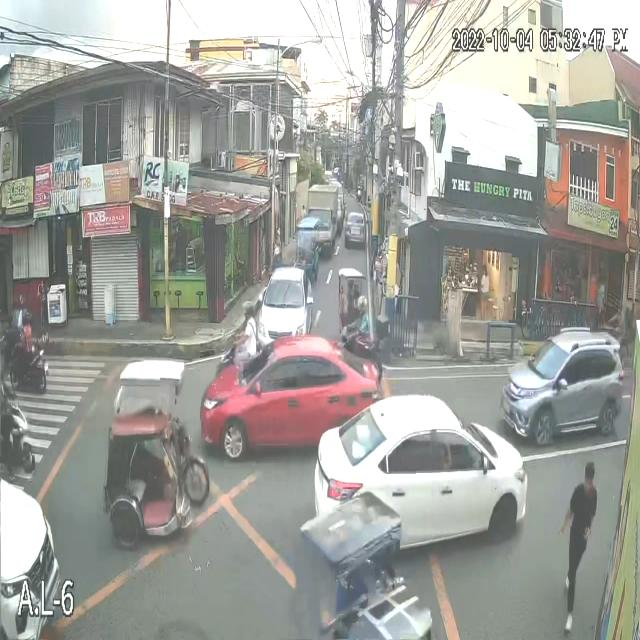Full-Faced: (354, 291, 369, 314), (20, 306, 34, 330)
Half-Faced: (239, 298, 257, 323)
